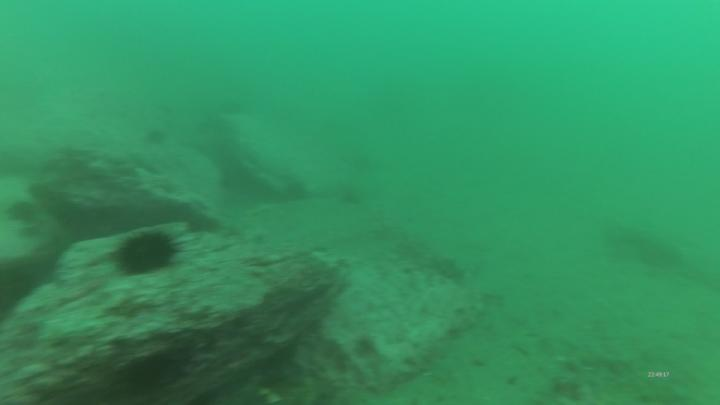echinus: (113, 227, 185, 278), (6, 200, 41, 226), (141, 127, 169, 150)
